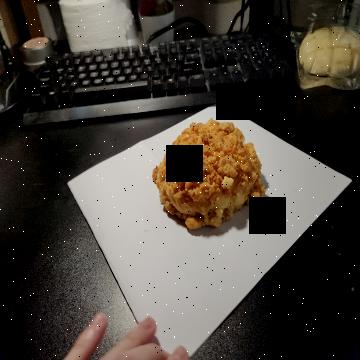soboru_bread: (149, 118, 265, 230)
